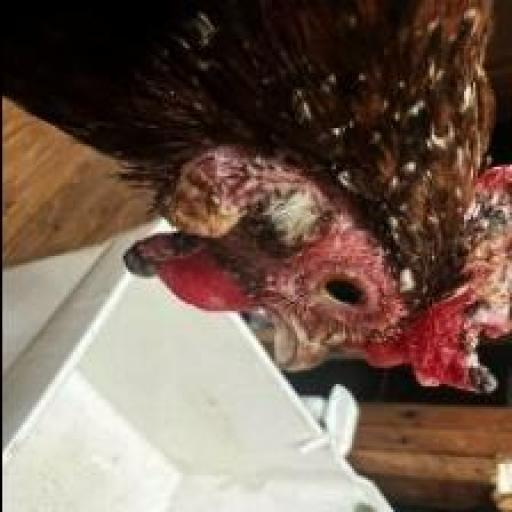disease: (409, 151, 512, 404), (167, 131, 303, 270), (317, 232, 399, 357)
